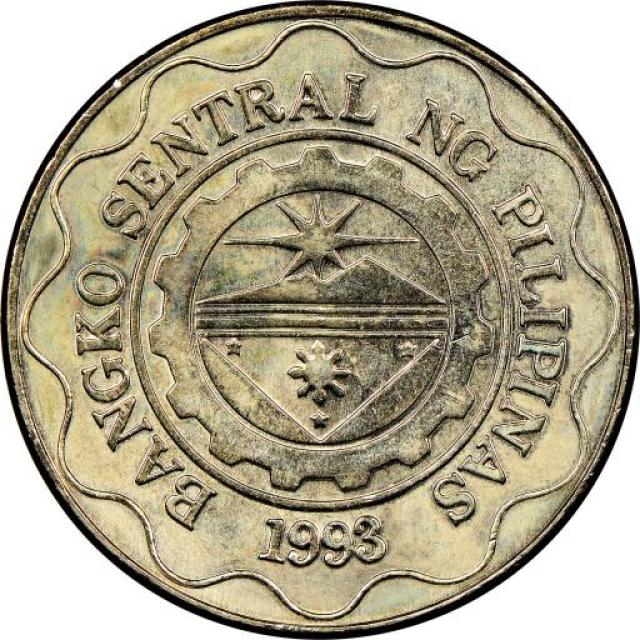5 peso-old: (16, 1, 640, 636)
